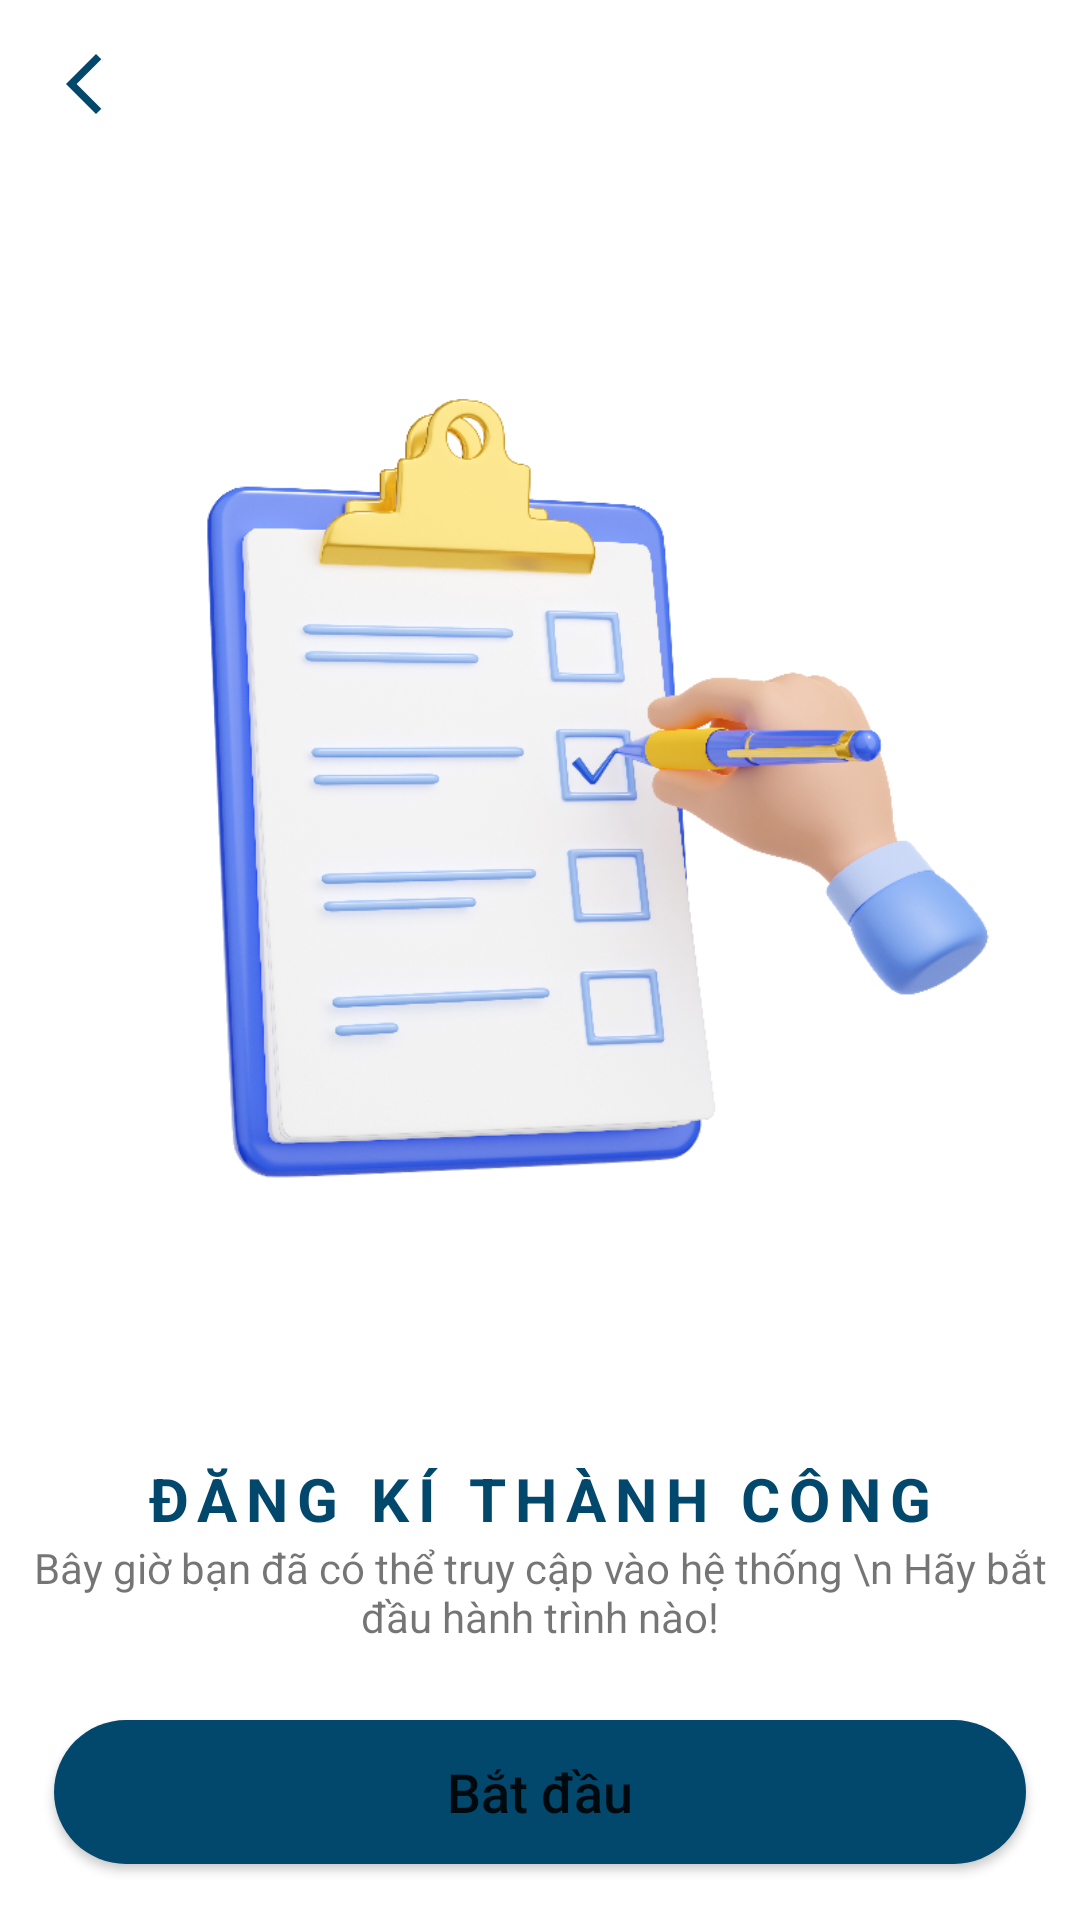

Where icons sit on this 1080w x 1920h app screen, as (x1, y1, x2, y2):
back: (66, 54, 101, 114)
